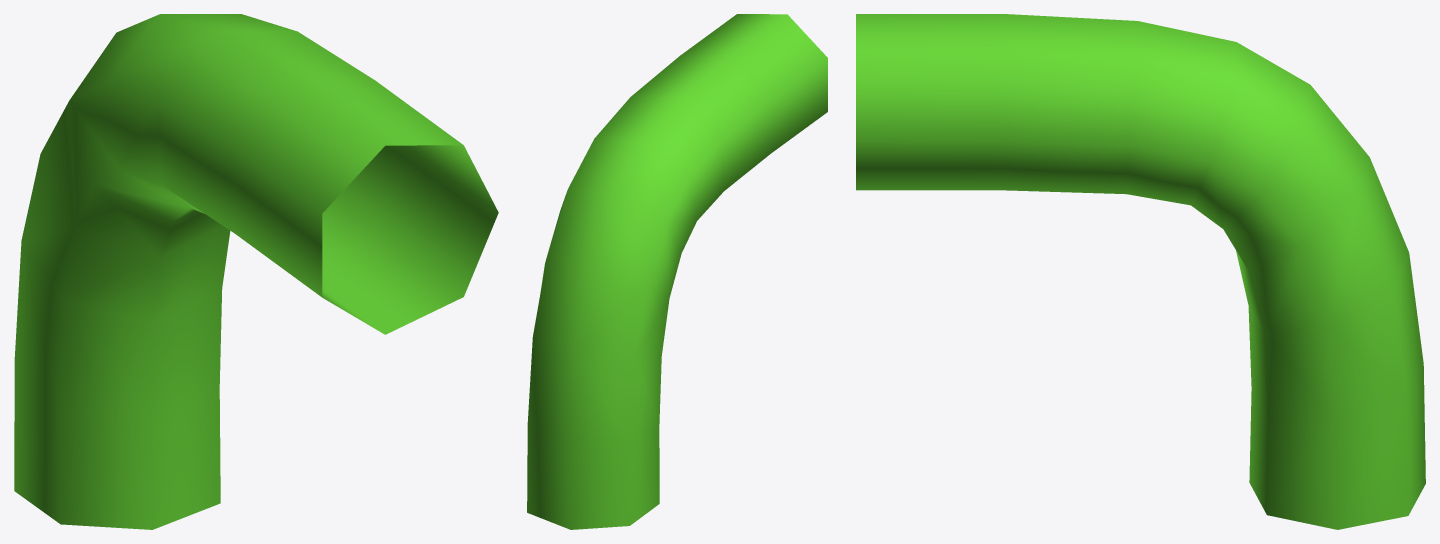
Rendered from Norris_Maze_Green_Wire_Out.fbx.
3 renders of one model, left to right at view 1: azimuth 30°, elevation 25°; view 2: azimuth 150°, elevation 25°; view 3: azimuth 270°, elevation 25°, orthographic. The views are drawn at different scales.
Parts seen in each view (by area): view 1: WireDown3; view 2: WireDown3; view 3: WireDown3.
Boxes of the visible parts, left/top/right/bottom form: WireDown3: left=14, top=14, right=498, bottom=529; WireDown3: left=527, top=14, right=827, bottom=529; WireDown3: left=856, top=14, right=1425, bottom=529.
Size of the model in its own units: 0.9742 by 2.94 by 3.23.
